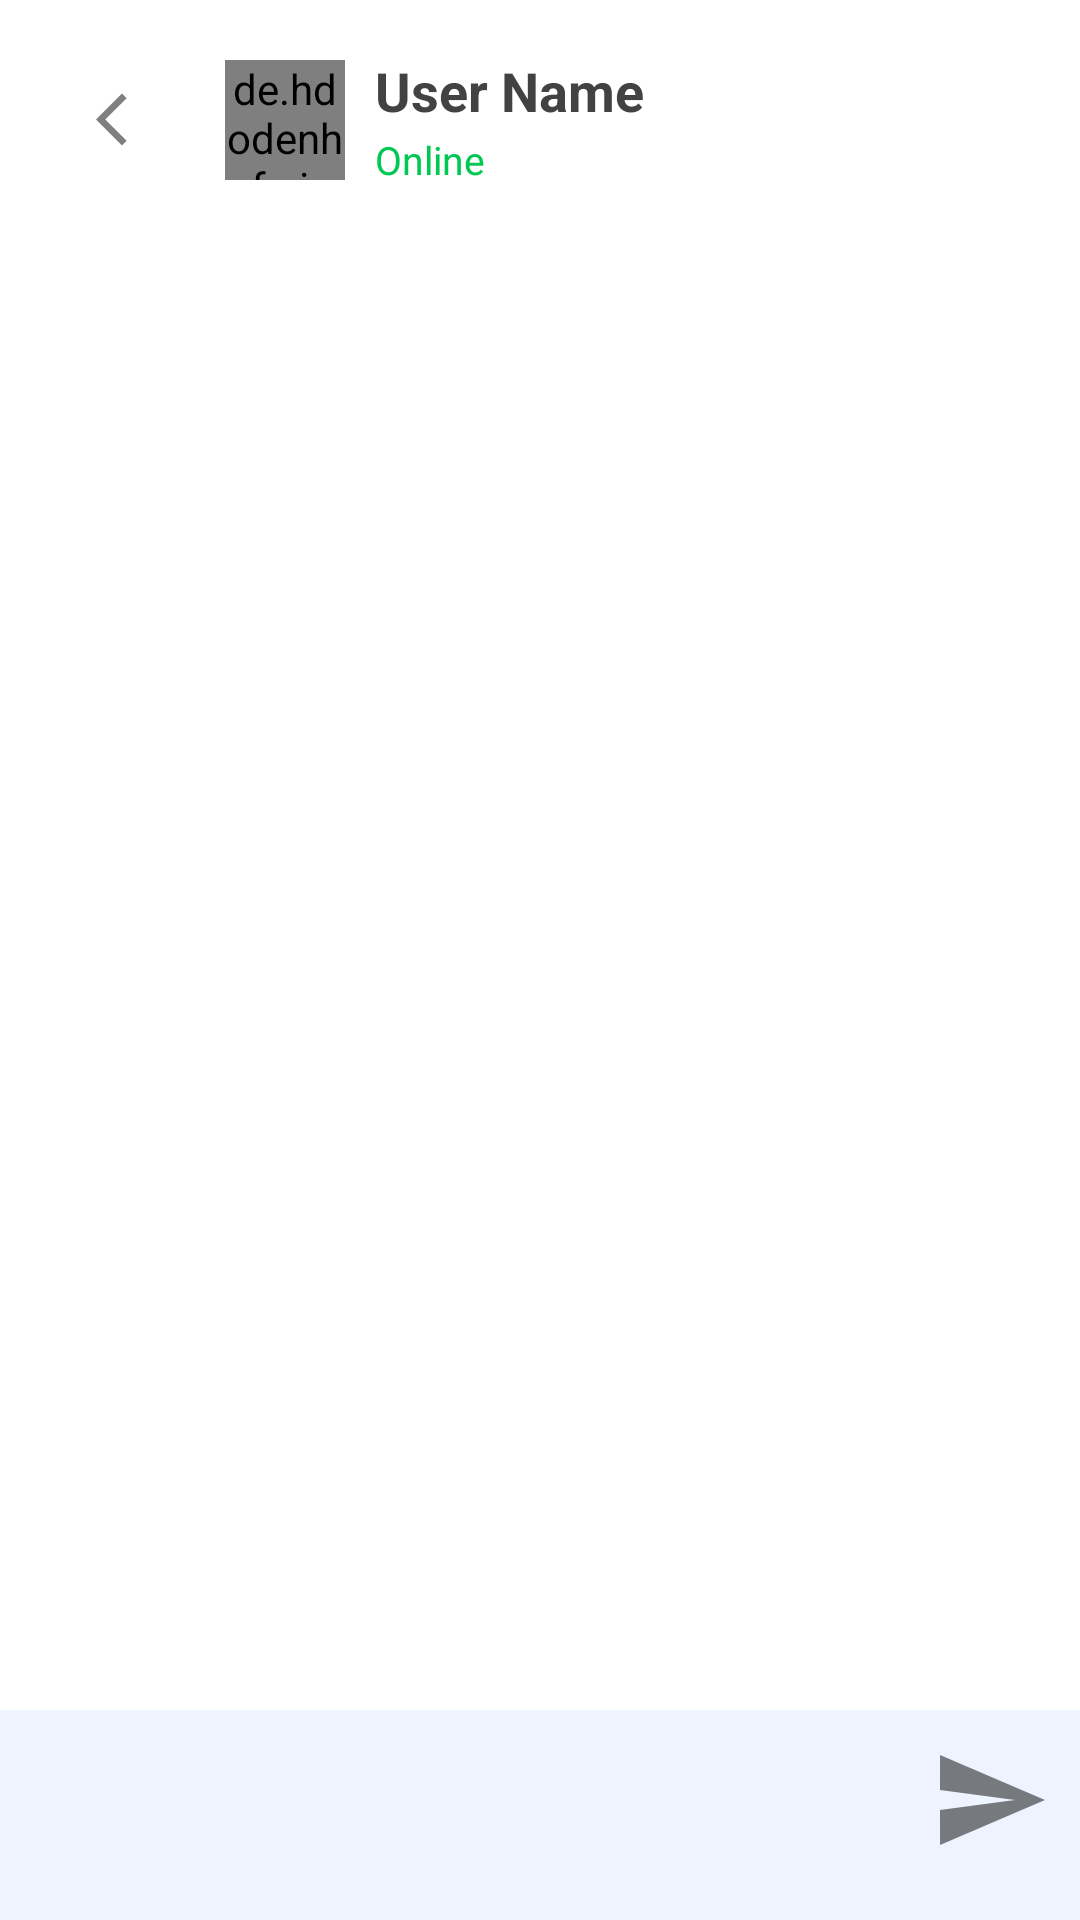

Where icons sit on this 1080×1920 app screen, as (x1, y1, x2, y2):
back: (96, 94, 127, 145)
send: (940, 1755, 1045, 1845)
